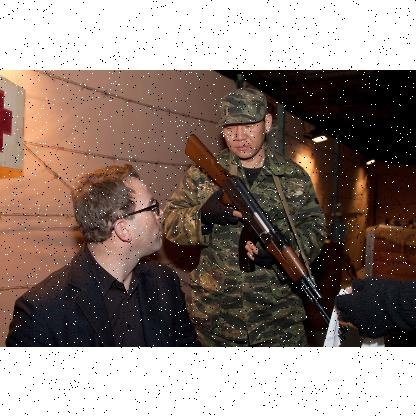gun: (185, 132, 349, 336)
